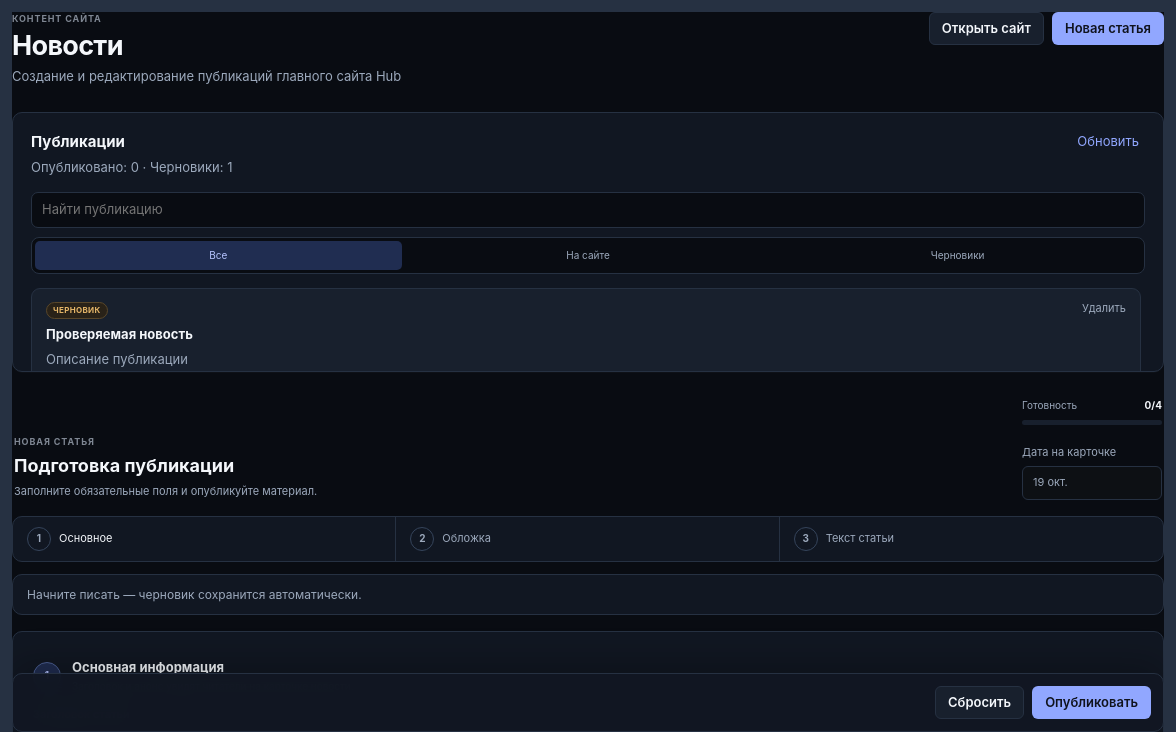
Test: site news publishing and deletion › publishes a restored server draft using its revision
The width and height of the screenshot is (1176, 732).
Click the button named "Проверяемая новость — черновик" at x=77, y=311, box [32,289,1140,404]
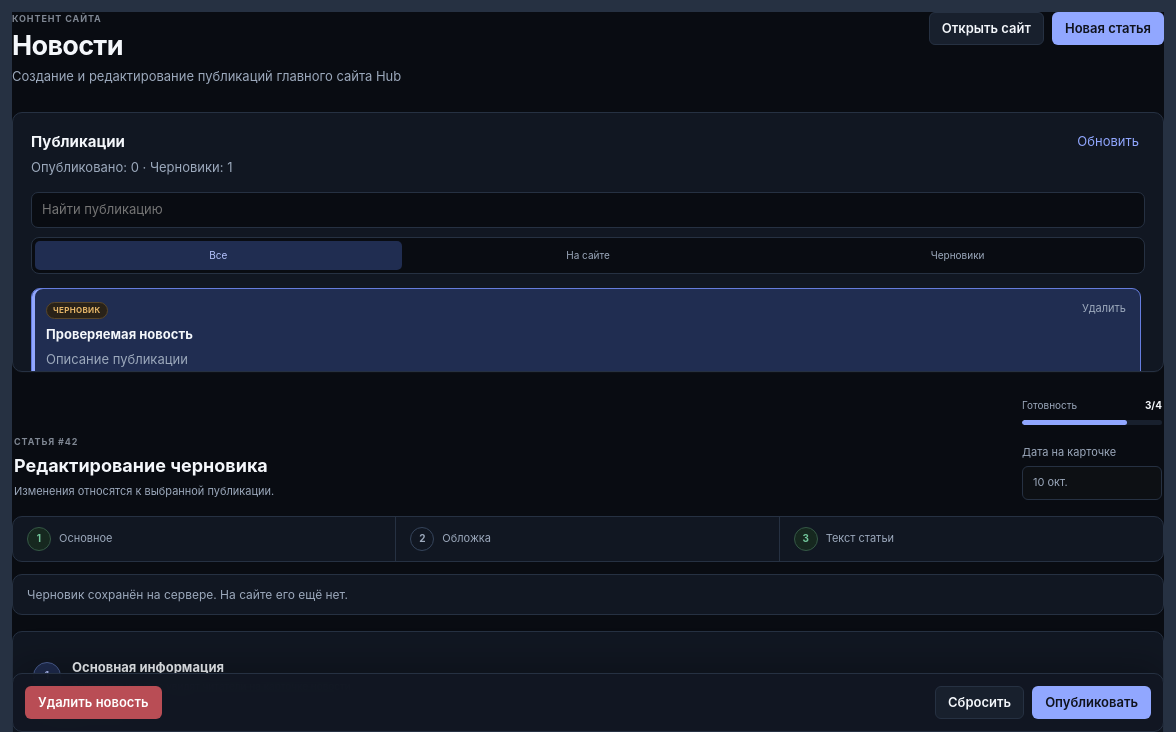
Click the button "Опубликовать" at x=1092, y=703, box [1032,686,1151,719]
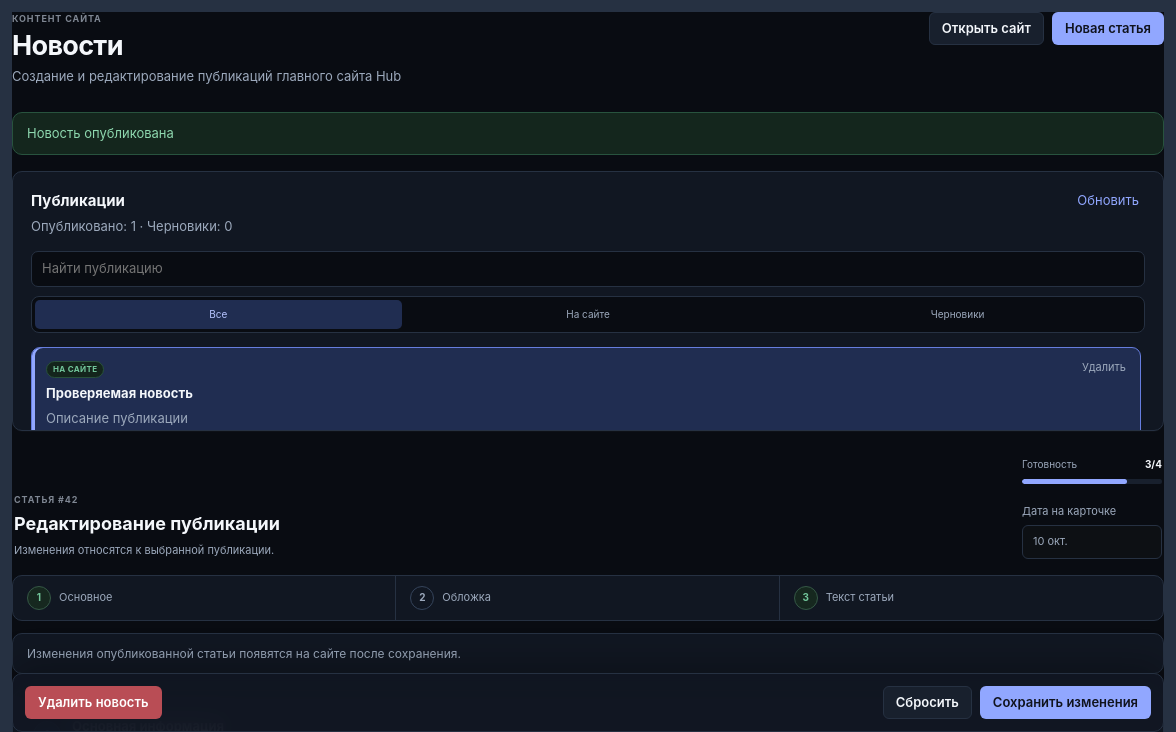
Expected: the text "Новость опубликована" is shown, [12,112,1164,155]
